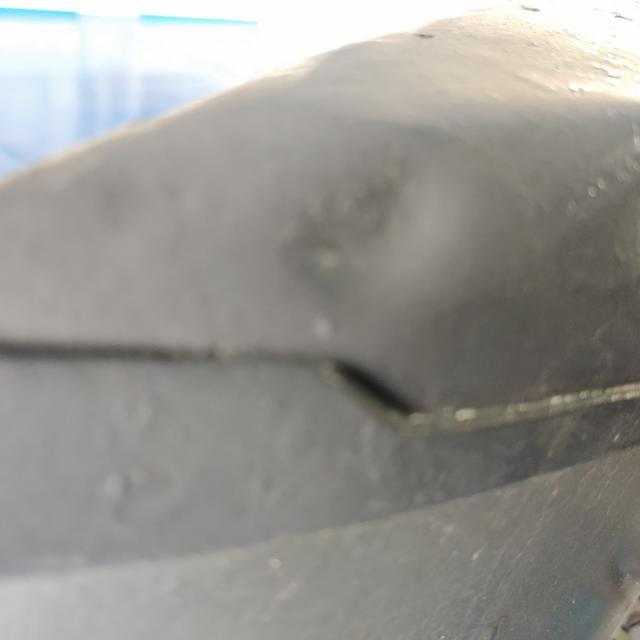dent: (258, 137, 488, 327)
